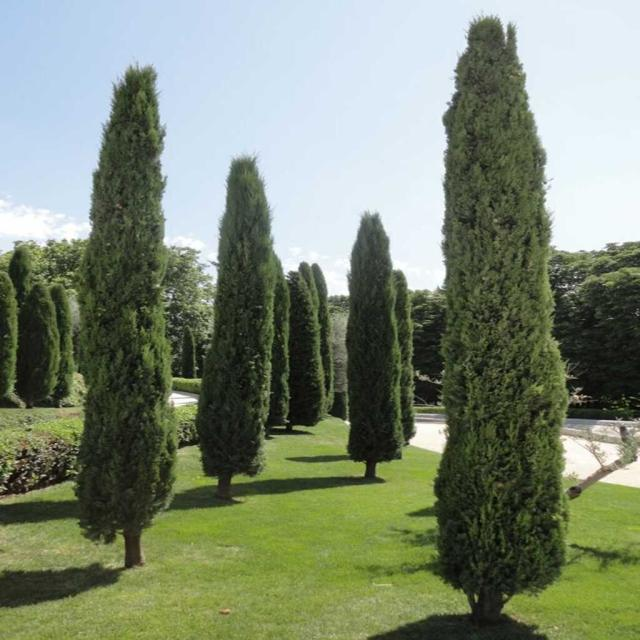cipres: (439, 8, 565, 639), (80, 61, 165, 581), (190, 155, 286, 500), (346, 200, 404, 490), (286, 263, 334, 425), (24, 276, 57, 408), (0, 258, 16, 405), (61, 288, 75, 402)
